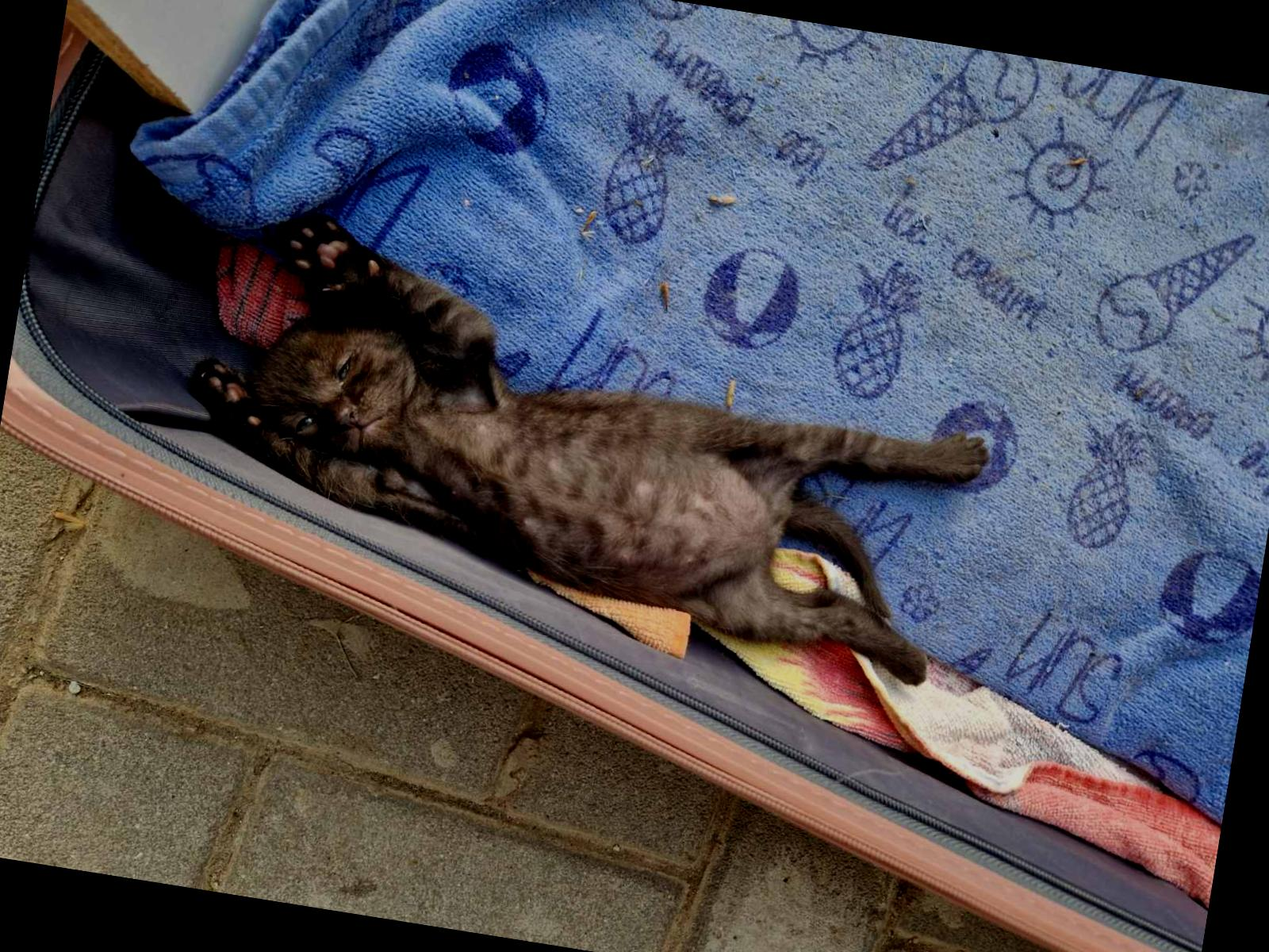macka: (161, 196, 1007, 700)
